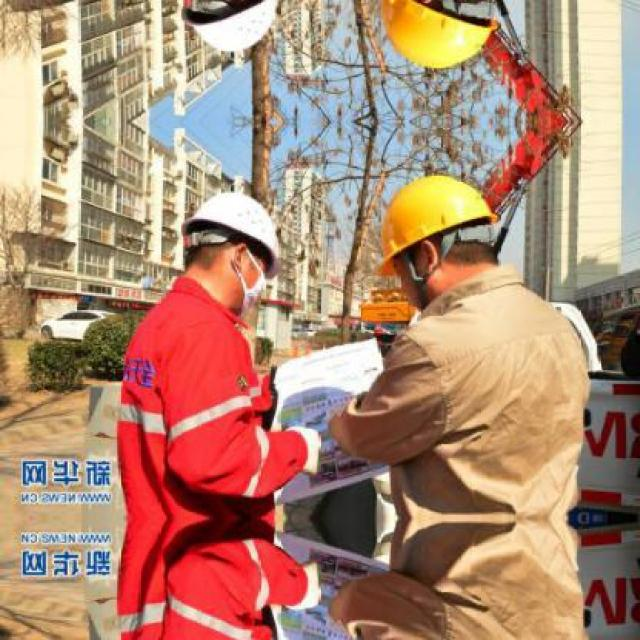Reflective-Jacket: (363, 278, 605, 520), (103, 290, 305, 523)
Safety-Helmet: (362, 165, 506, 275), (163, 184, 295, 279)
